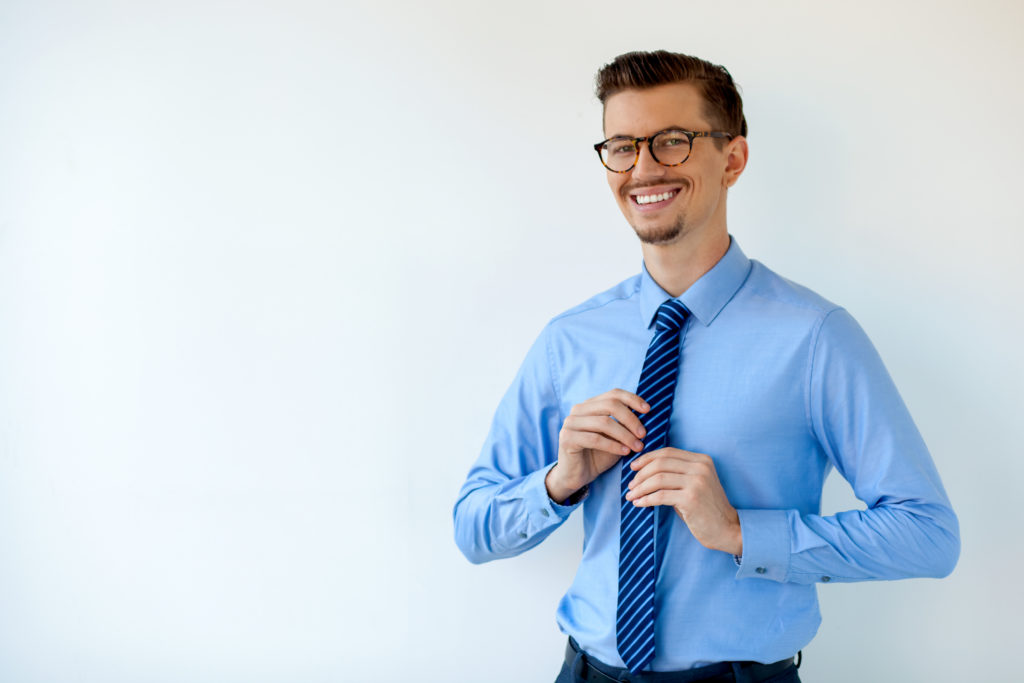glasses: (592, 123, 743, 180)
tie: (607, 293, 704, 668)
